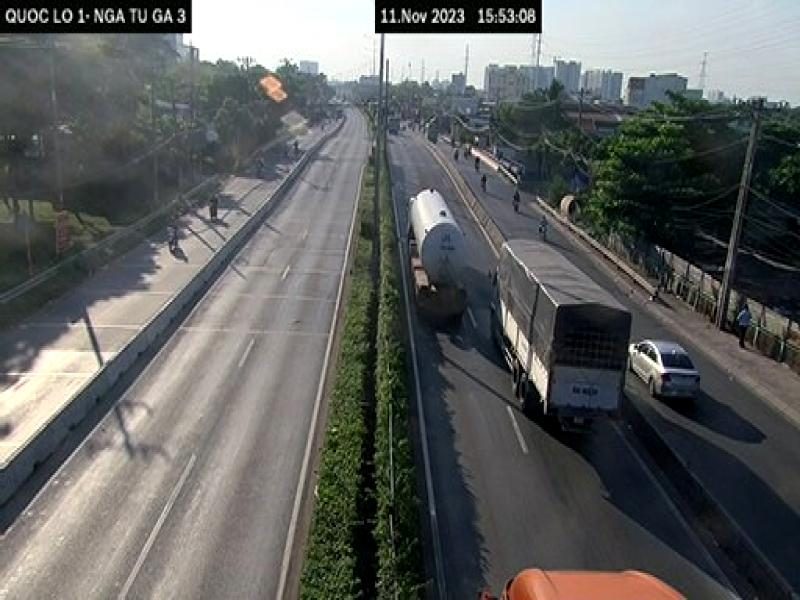truck: (490, 236, 632, 439), (404, 188, 472, 327)
